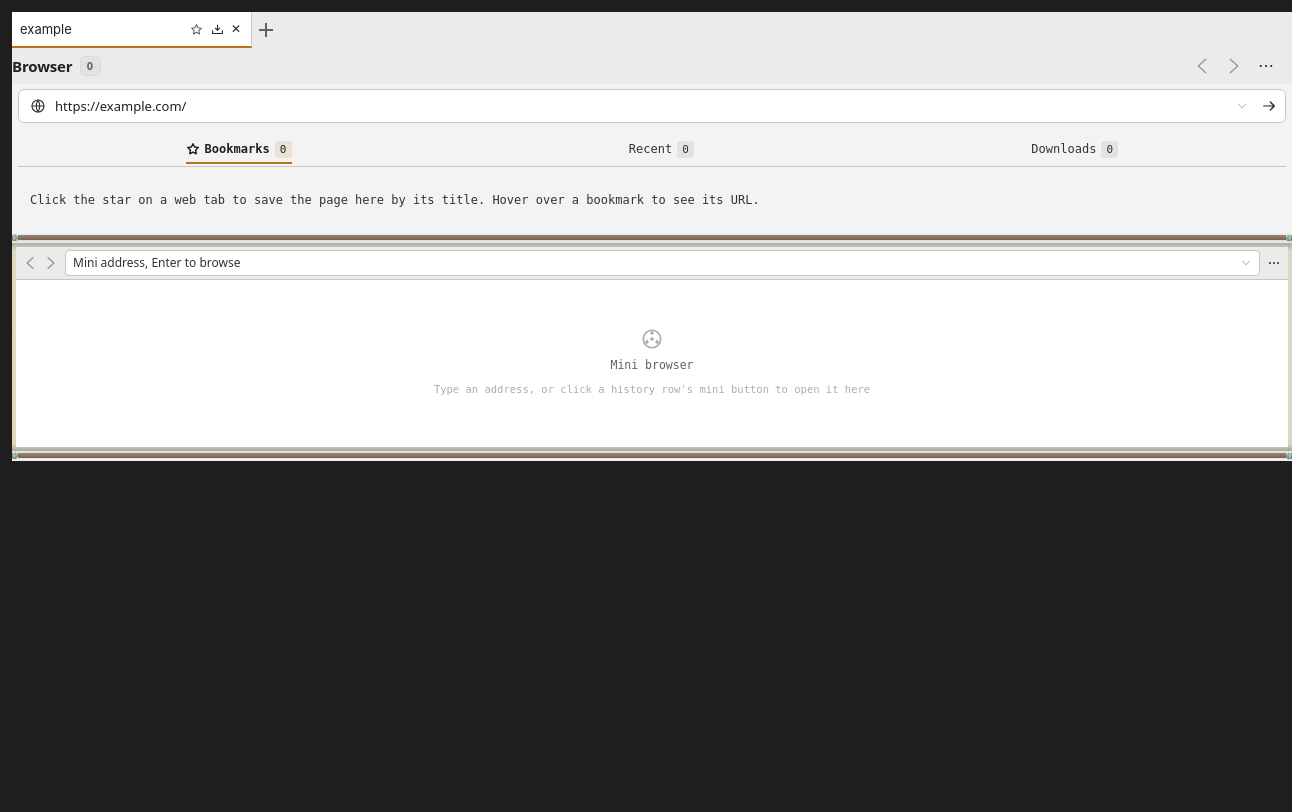
Test case: 网址收藏 › 存储失败时显示提示，星标保持未收藏
The image size is (1292, 812).
Click the button named "Bookmark this URL". click: x=196, y=29
box: [187, 20, 205, 38]
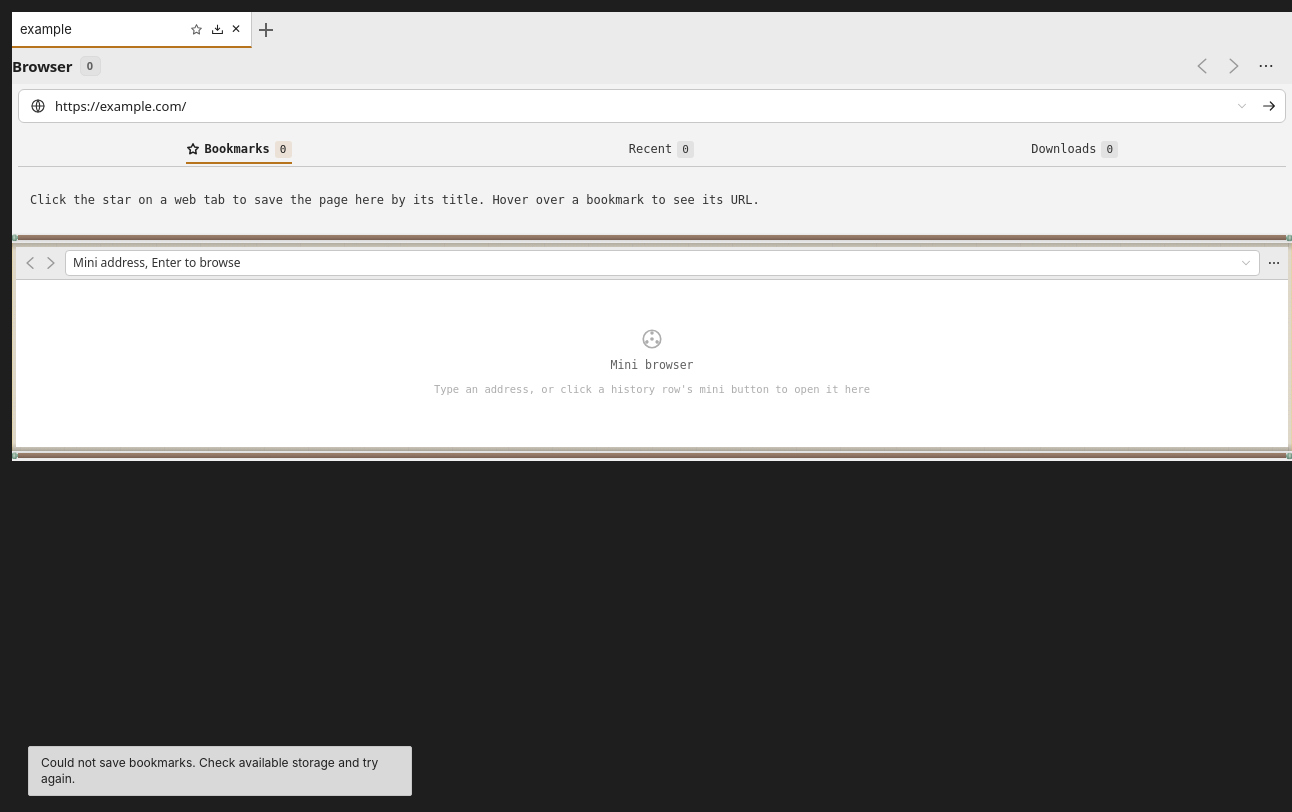
Expected: the message shows "Could not save bookmarks", [41, 755, 378, 786]
